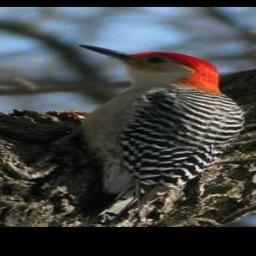Woodpecker: (45, 42, 253, 223)
